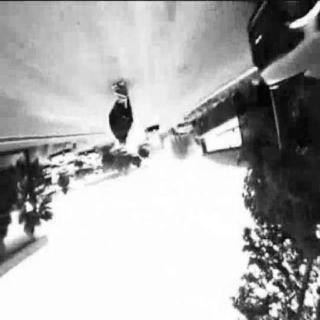other: (200, 122, 243, 152), (168, 132, 195, 164), (25, 142, 53, 168), (127, 135, 143, 159)
